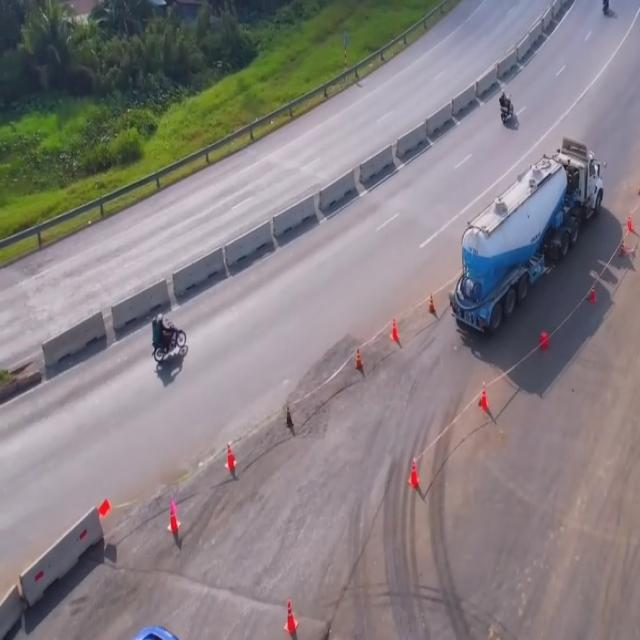motorbike: (151, 313, 187, 366), (498, 89, 516, 130), (598, 0, 614, 17)
truck: (452, 134, 606, 340)
